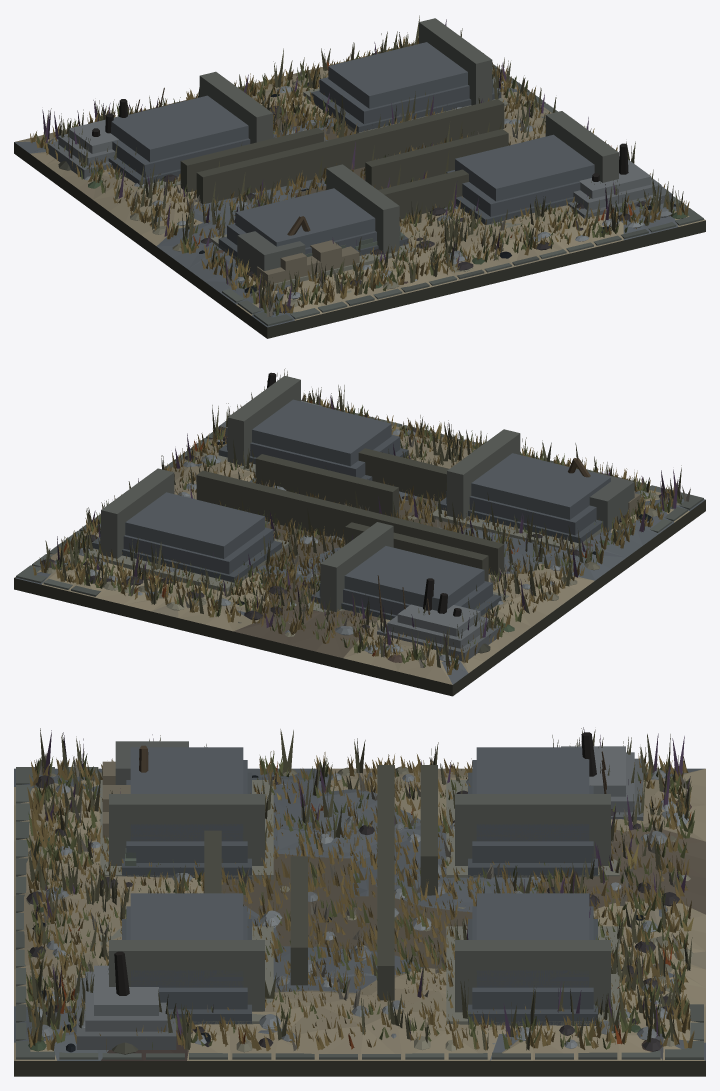
File: world_chunk_library.glb
3 renders of one model, top to bottom at view 1: azimuth 30°, elevation 25°; view 2: azimuth 150°, elevation 25°; view 3: azimuth 270°, elevation 25°, orthographic. The views are drawn at different scales.
Parts seen in each view (by area): view 1: CHUNK_abandoned_village__evacuated_funeral_hamlet__00, CHUNK_ossuary_quarry__abandoned_cutting_floor__10, CHUNK_glass_ash_desert__buried_aqueduct, CHUNK_ossuary_quarry__abandoned_cutting_floor__11, CHUNK_ossuary_quarry__abandoned_cutting_floor__01, CHUNK_ossuary_quarry__abandoned_cutting_floor__00, CHUNK_broken_crown_hills__broken_bridge_abutment, CHUNK_glass_ash_desert__stone_windbreak, CHUNK_ruined_monastery__fallen_guardian_seal__01, CHUNK_abandoned_village__evacuated_funeral_hamlet__10, CHUNK_abandoned_village__looted_trade_hamlet__10, CHUNK_abandoned_village__flooded_well_hamlet__00 (+42 smaller); view 2: CHUNK_abandoned_village__evacuated_funeral_hamlet__00, CHUNK_ossuary_quarry__abandoned_cutting_floor__01, CHUNK_ossuary_quarry__abandoned_cutting_floor__10, CHUNK_ossuary_quarry__abandoned_cutting_floor__11, CHUNK_ossuary_quarry__abandoned_cutting_floor__00, CHUNK_glass_ash_desert__buried_aqueduct, CHUNK_abandoned_village__looted_trade_hamlet__10, CHUNK_ruined_monastery__fallen_guardian_seal__10, CHUNK_broken_crown_hills__broken_bridge_abutment, CHUNK_ruined_monastery__fallen_guardian_seal__01, CHUNK_TRANS_glass_ash_desert__dead_furnace_wastes__1, CHUNK_abandoned_village__flooded_well_hamlet__10 (+43 smaller); view 3: CHUNK_abandoned_village__evacuated_funeral_hamlet__00, CHUNK_ossuary_quarry__abandoned_cutting_floor__01, CHUNK_glass_ash_desert__ash_dunes, CHUNK_ossuary_quarry__abandoned_cutting_floor__11, CHUNK_ossuary_quarry__abandoned_cutting_floor__00, CHUNK_ossuary_quarry__abandoned_cutting_floor__10, CHUNK_glass_ash_desert__buried_aqueduct, CHUNK_ruined_monastery__fallen_guardian_seal__10, CHUNK_ruined_monastery__fallen_guardian_seal__01, CHUNK_ruined_monastery__fallen_guardian_seal__00, CHUNK_broken_crown_hills__broken_bridge_abutment, CHUNK_ruined_monastery__fallen_guardian_seal__11 (+60 smaller).
Boxes of the visible parts, box(x1,y1,x2,y2) form: CHUNK_abandoned_village__evacuated_funeral_hamlet__00: box(14, 43, 705, 338); CHUNK_ossuary_quarry__abandoned_cutting_floor__10: box(303, 42, 501, 134); CHUNK_glass_ash_desert__buried_aqueduct: box(30, 48, 631, 312); CHUNK_ossuary_quarry__abandoned_cutting_floor__11: box(252, 122, 594, 225); CHUNK_ossuary_quarry__abandoned_cutting_floor__01: box(131, 183, 408, 314); CHUNK_ossuary_quarry__abandoned_cutting_floor__00: box(30, 95, 458, 220); CHUNK_broken_crown_hills__broken_bridge_abutment: box(14, 116, 671, 296); CHUNK_glass_ash_desert__stone_windbreak: box(108, 62, 544, 313); CHUNK_ruined_monastery__fallen_guardian_seal__01: box(104, 112, 572, 304); CHUNK_abandoned_village__evacuated_funeral_hamlet__10: box(172, 37, 535, 232); CHUNK_abandoned_village__looted_trade_hamlet__10: box(273, 53, 617, 219); CHUNK_abandoned_village__flooded_well_hamlet__00: box(111, 48, 462, 246); CHUNK_abandoned_village__evacuated_funeral_hamlet__00: box(14, 399, 705, 696); CHUNK_ossuary_quarry__abandoned_cutting_floor__01: box(438, 453, 681, 604); CHUNK_ossuary_quarry__abandoned_cutting_floor__10: box(92, 469, 440, 585); CHUNK_ossuary_quarry__abandoned_cutting_floor__11: box(218, 399, 502, 574); CHUNK_ossuary_quarry__abandoned_cutting_floor__00: box(259, 482, 507, 672); CHUNK_glass_ash_desert__buried_aqueduct: box(31, 404, 670, 673); CHUNK_abandoned_village__looted_trade_hamlet__10: box(61, 434, 486, 640); CHUNK_ruined_monastery__fallen_guardian_seal__10: box(64, 438, 474, 642); CHUNK_broken_crown_hills__broken_bridge_abutment: box(15, 400, 667, 684); CHUNK_ruined_monastery__fallen_guardian_seal__01: box(287, 420, 667, 618); CHUNK_TRANS_glass_ash_desert__dead_furnace_wastes__1: box(93, 435, 378, 657); CHUNK_abandoned_village__flooded_well_hamlet__10: box(61, 442, 473, 648); CHUNK_abandoned_village__evacuated_funeral_hamlet__00: box(14, 765, 705, 1076); CHUNK_ossuary_quarry__abandoned_cutting_floor__01: box(39, 747, 467, 982); CHUNK_glass_ash_desert__ash_dunes: box(14, 768, 662, 1060); CHUNK_ossuary_quarry__abandoned_cutting_floor__11: box(99, 821, 454, 1024); CHUNK_ossuary_quarry__abandoned_cutting_floor__00: box(172, 747, 688, 981); CHUNK_ossuary_quarry__abandoned_cutting_floor__10: box(238, 866, 597, 1025); CHUNK_glass_ash_desert__buried_aqueduct: box(14, 768, 705, 1060); CHUNK_ruined_monastery__fallen_guardian_seal__10: box(163, 807, 684, 1049); CHUNK_ruined_monastery__fallen_guardian_seal__01: box(32, 758, 482, 979); CHUNK_ruined_monastery__fallen_guardian_seal__00: box(237, 761, 681, 989); CHUNK_broken_crown_hills__broken_bridge_abutment: box(46, 746, 705, 1060); CHUNK_ruined_monastery__fallen_guardian_seal__11: box(31, 810, 525, 1051).
Size of the model in its own units: 8 by 1.21 by 8.
